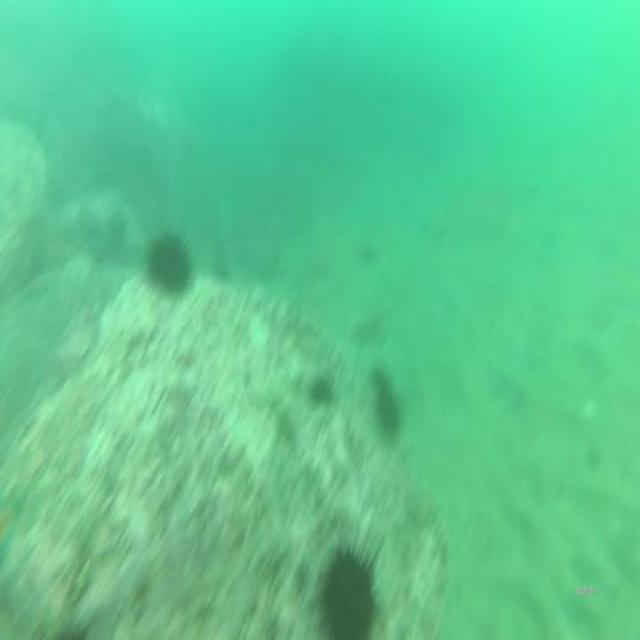echinus: (316, 547, 378, 640), (145, 228, 192, 292), (371, 363, 401, 438), (310, 373, 332, 409)
